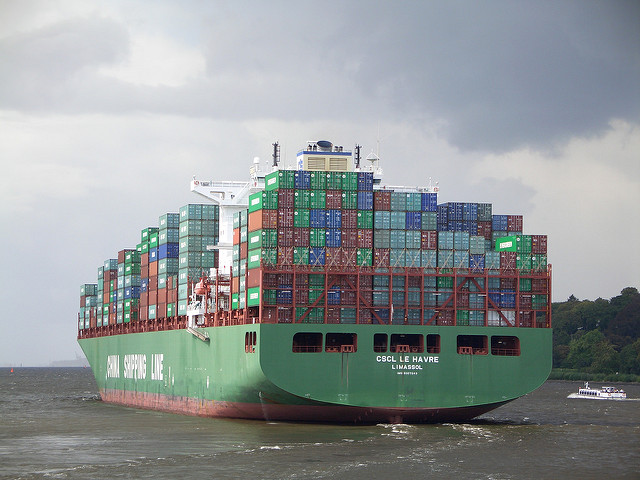boat: (572, 380, 629, 397)
container_ship: (76, 134, 557, 418)
